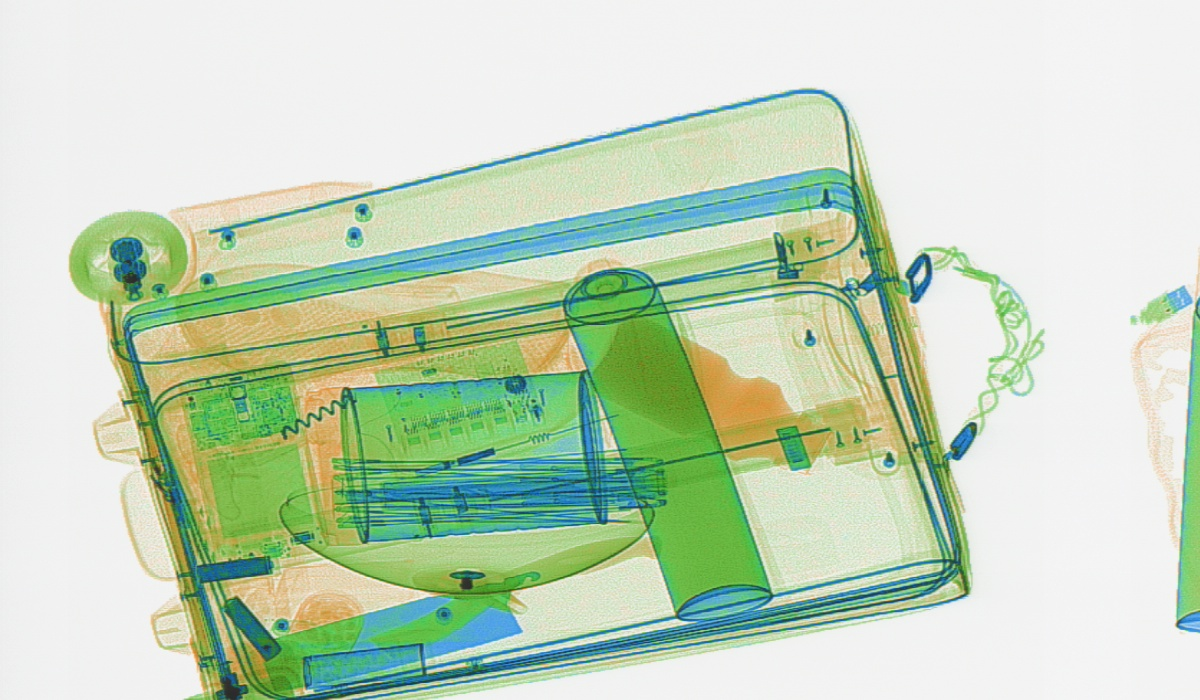knife: (257, 532, 662, 695)
pressure: (559, 260, 772, 622)
